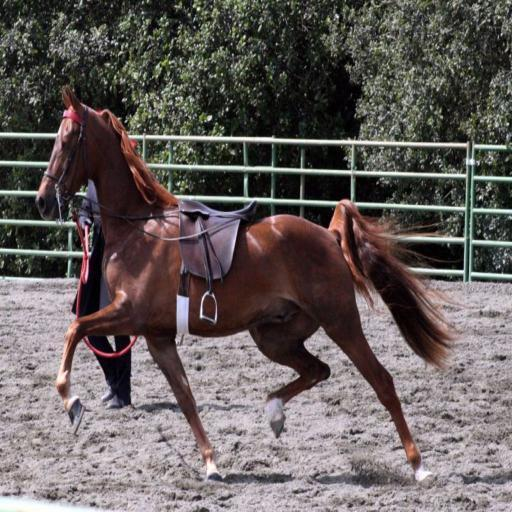horse: (35, 81, 460, 489)
